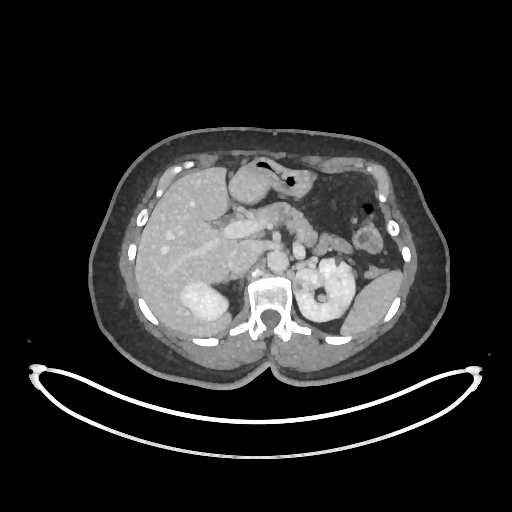Lesion: (293, 278, 308, 294)
